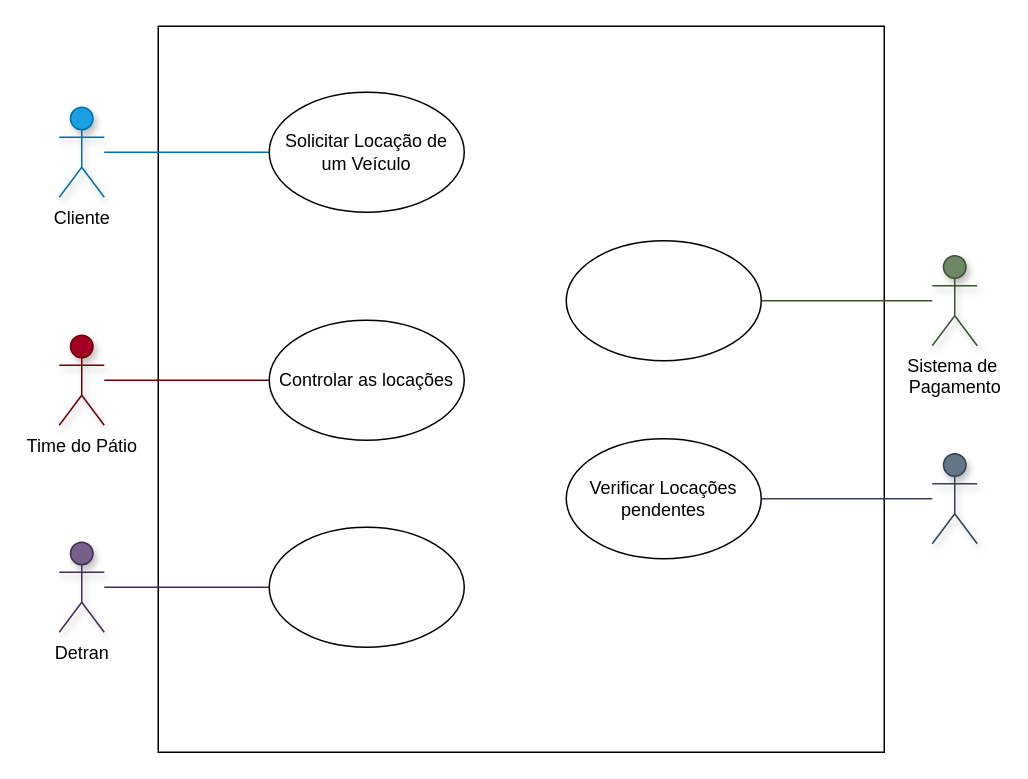
The diagram is 1028 pixels wide and 779 high, and some of its shapes have lost their labels. The centre of each missing label's shape, as x and y in pixels:
"Buscar multas" belongs at pixel 366 586.
"Consolidar os pagamentos" belongs at pixel 663 300.
"Operador" belongs at pixel 955 500.
